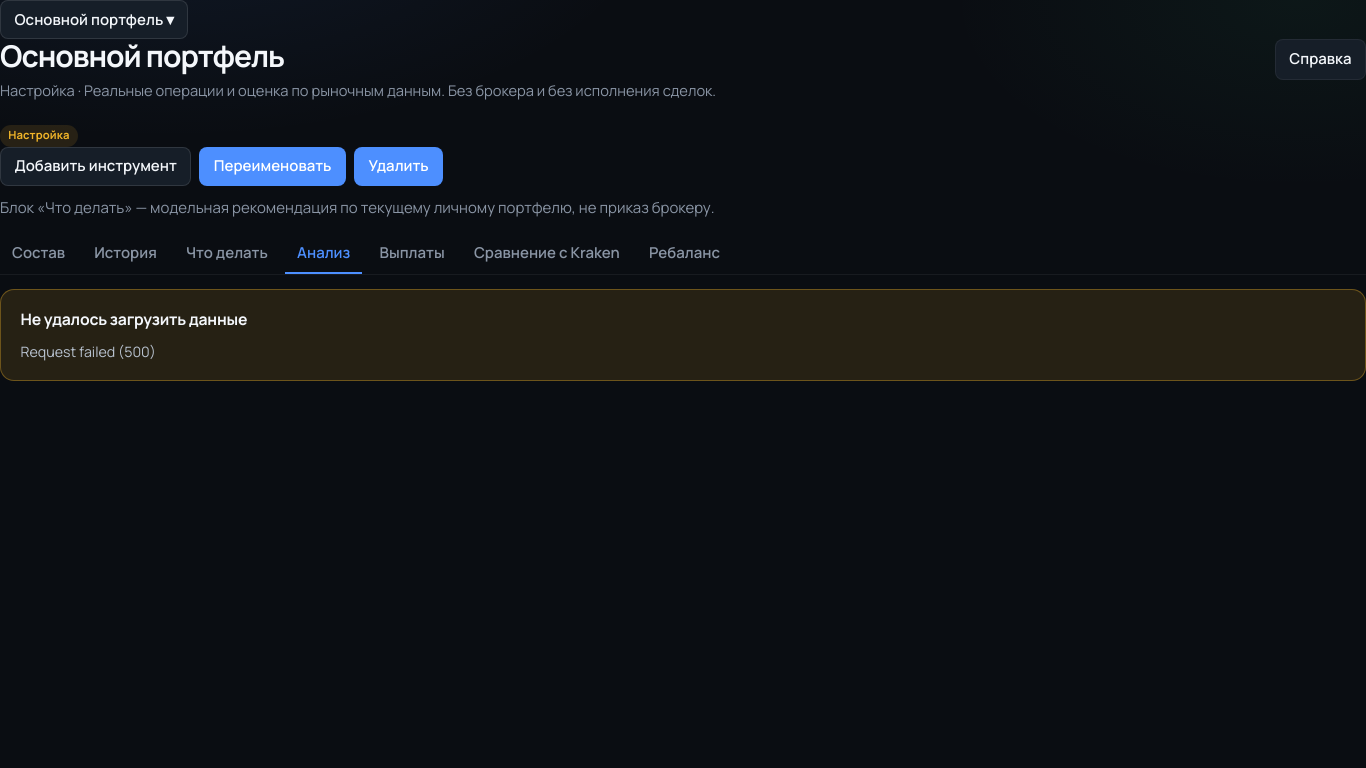
MyPortfolioPage › keeps Состав usable when analysis fails
This screenshot has width=1366, height=768.
Expected: the heading "Не удалось загрузить данные" is shown, [20,308,247,330]
Click the button with test id "tab-holdings". click: x=38, y=254
box: [0,234,77,274]
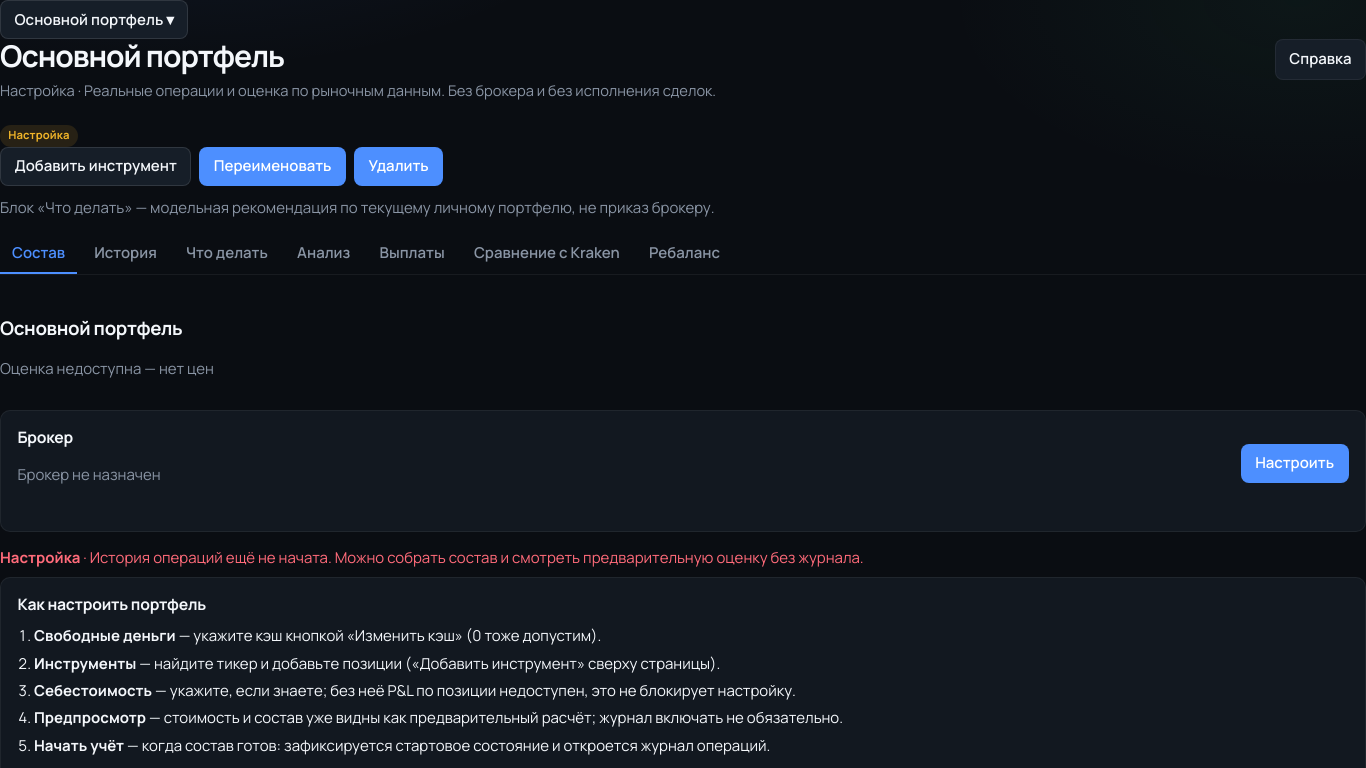
Now the element with test id "draft-setup-banner" is shown, box [0,547,864,568]
